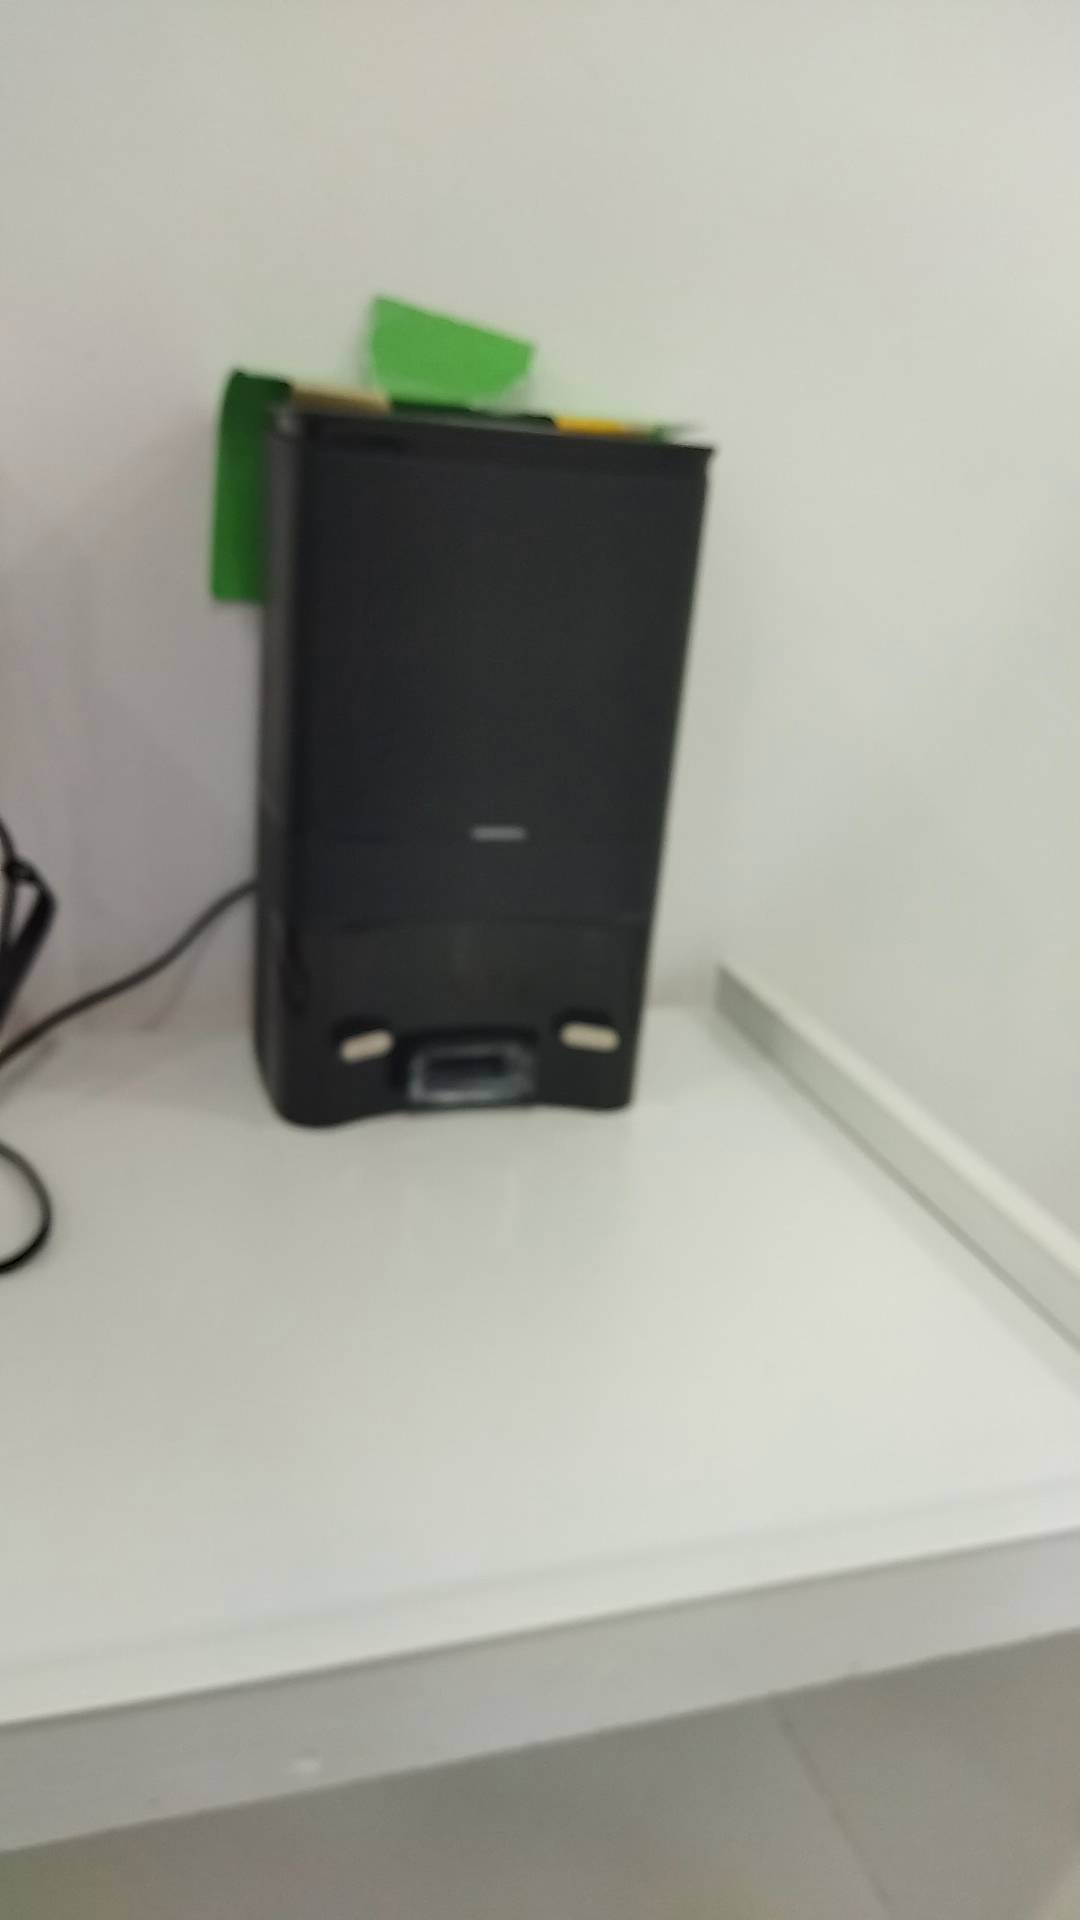dust collecting barrel: (251, 392, 713, 1137)
